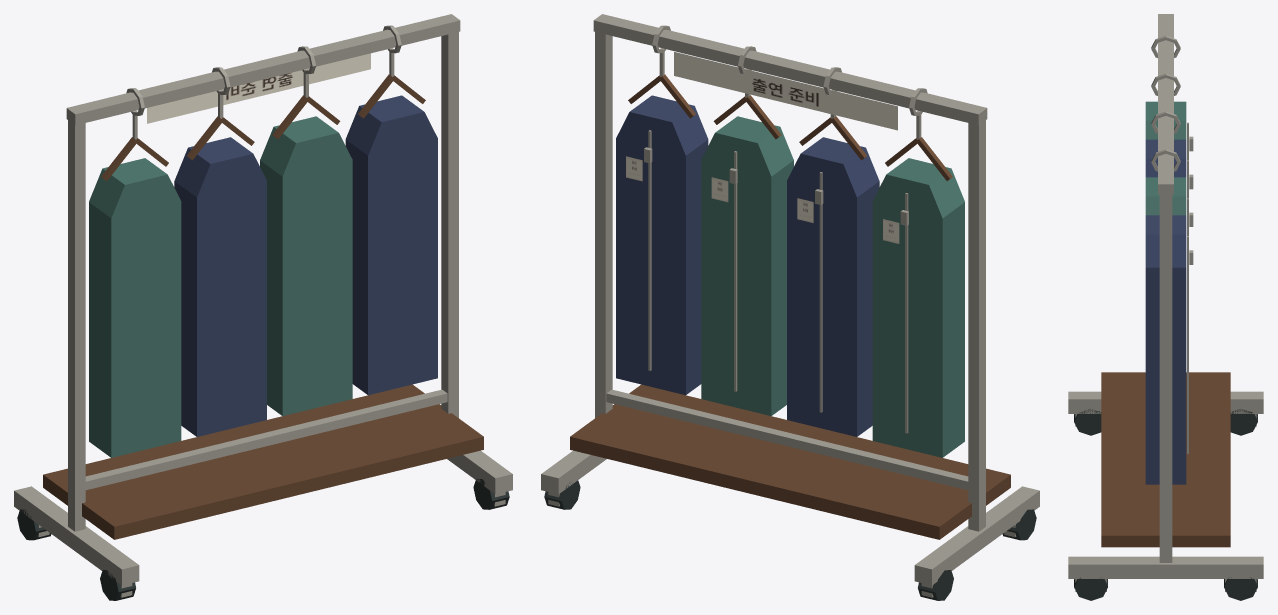
The model's file is P07_Backstage_Costume_Rail.fbx.
3 renders of one model, left to right at view 1: azimuth 30°, elevation 25°; view 2: azimuth 150°, elevation 25°; view 3: azimuth 270°, elevation 25°, orthographic. The views are drawn at different scales.
Visible parts, largest first — view 1: Structure, Garment_Bag_01, Garment_Bag_02, Garment_Bag_03, Garment_Bag_04, Front_Label; view 2: Structure, Garment_Bag_01, Garment_Bag_04, Garment_Bag_02, Garment_Bag_03, Front_Label; view 3: Structure, Garment_Bag_04, Garment_Bag_03, Garment_Bag_01, Garment_Bag_02.
Part boxes in pixels (box(x1,y1,x2,y2)): Structure: box(14, 14, 512, 600); Garment_Bag_01: box(89, 88, 181, 457); Garment_Bag_02: box(174, 67, 266, 436); Garment_Bag_03: box(260, 46, 352, 416); Garment_Bag_04: box(345, 25, 437, 395); Front_Label: box(147, 53, 370, 123); Structure: box(541, 14, 1039, 600); Garment_Bag_01: box(872, 88, 964, 457); Garment_Bag_04: box(616, 25, 708, 395); Garment_Bag_02: box(787, 67, 879, 436); Garment_Bag_03: box(701, 46, 793, 416); Front_Label: box(674, 52, 897, 130); Structure: box(1068, 14, 1263, 600); Garment_Bag_04: box(1145, 149, 1193, 484); Garment_Bag_03: box(1145, 111, 1193, 235); Garment_Bag_01: box(1145, 36, 1193, 160); Garment_Bag_02: box(1145, 73, 1193, 198).
Size of the model in its own units: 2.2 by 2.5 by 1.05.
6 materials, 1 textured.
